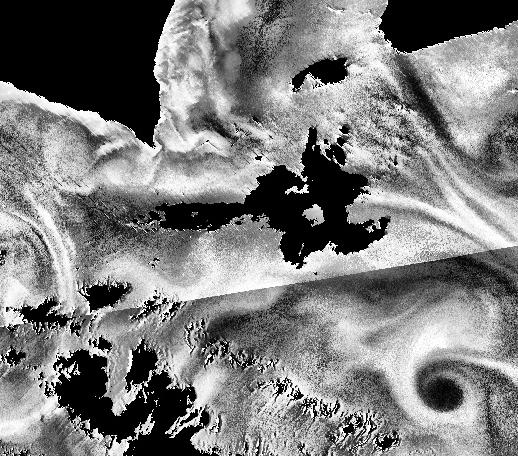CE: (406, 353, 485, 421)
